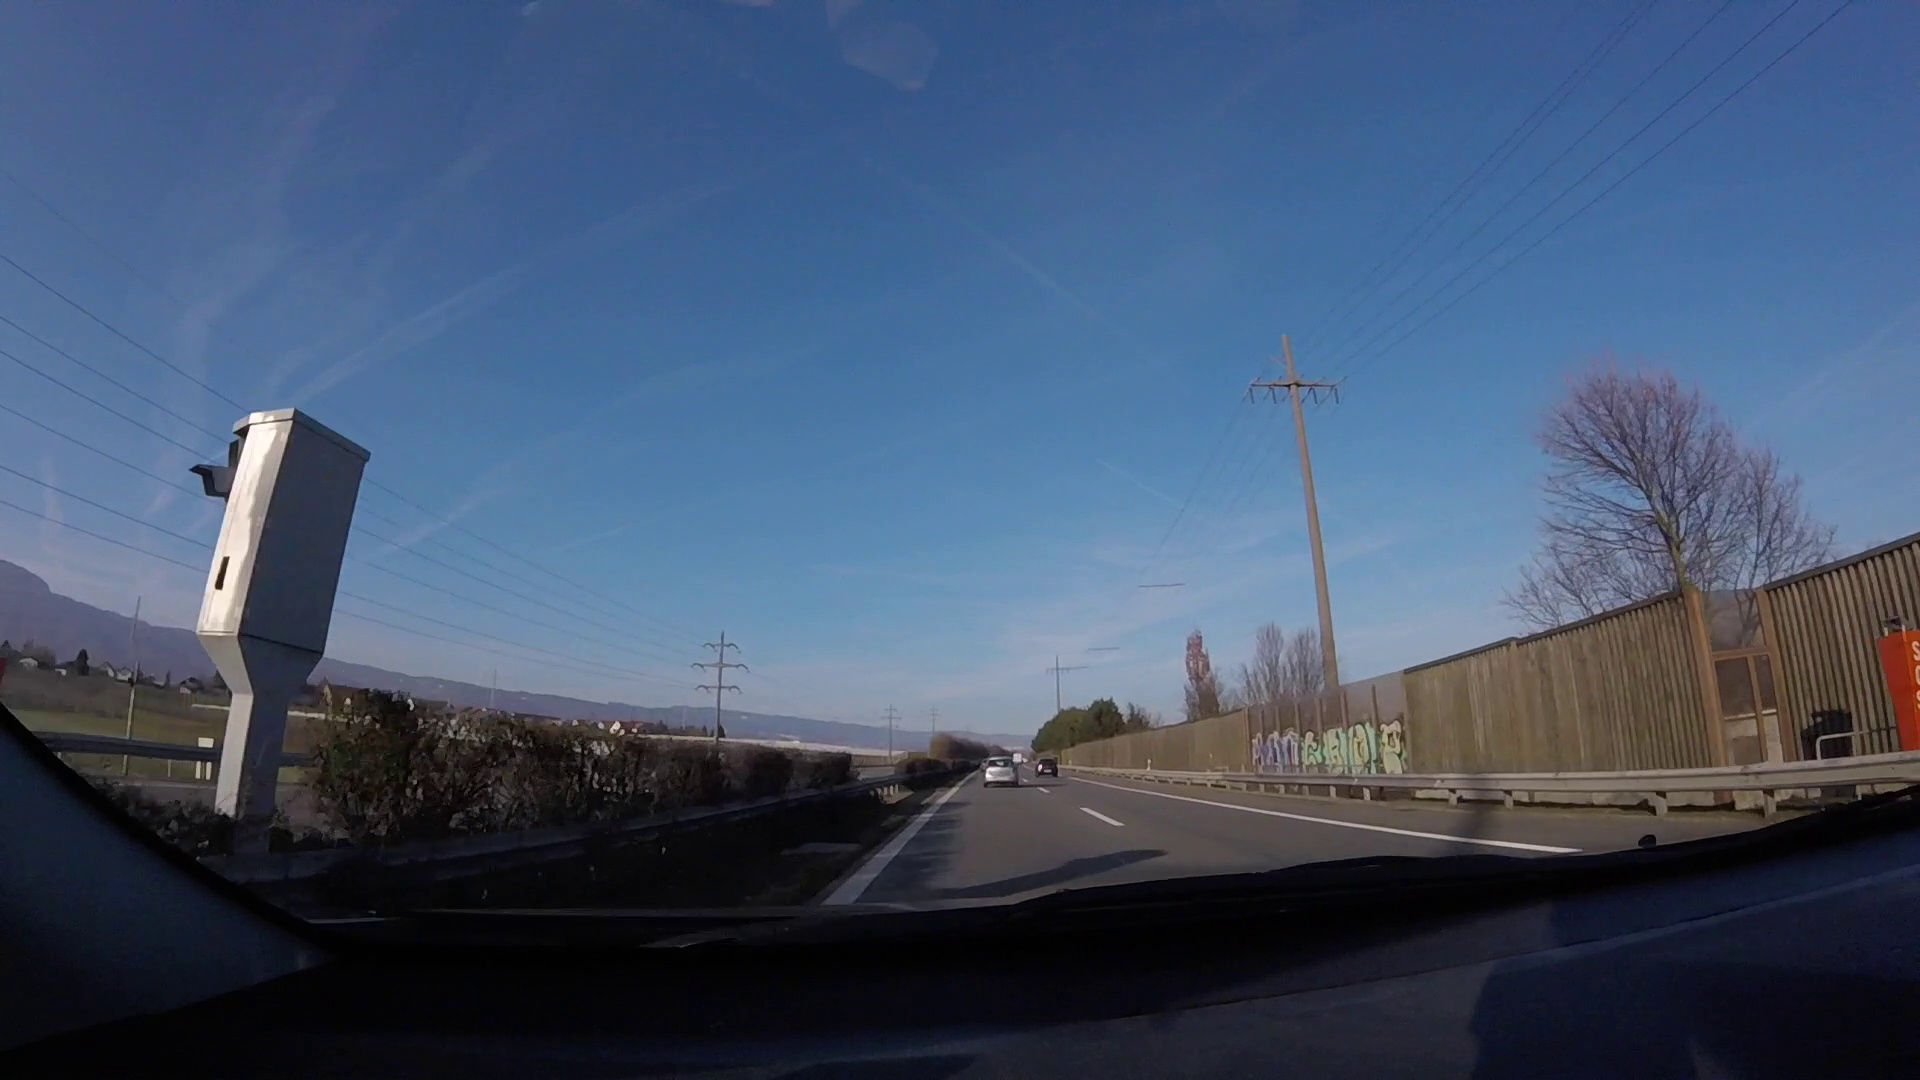radar: (185, 405, 375, 843)
